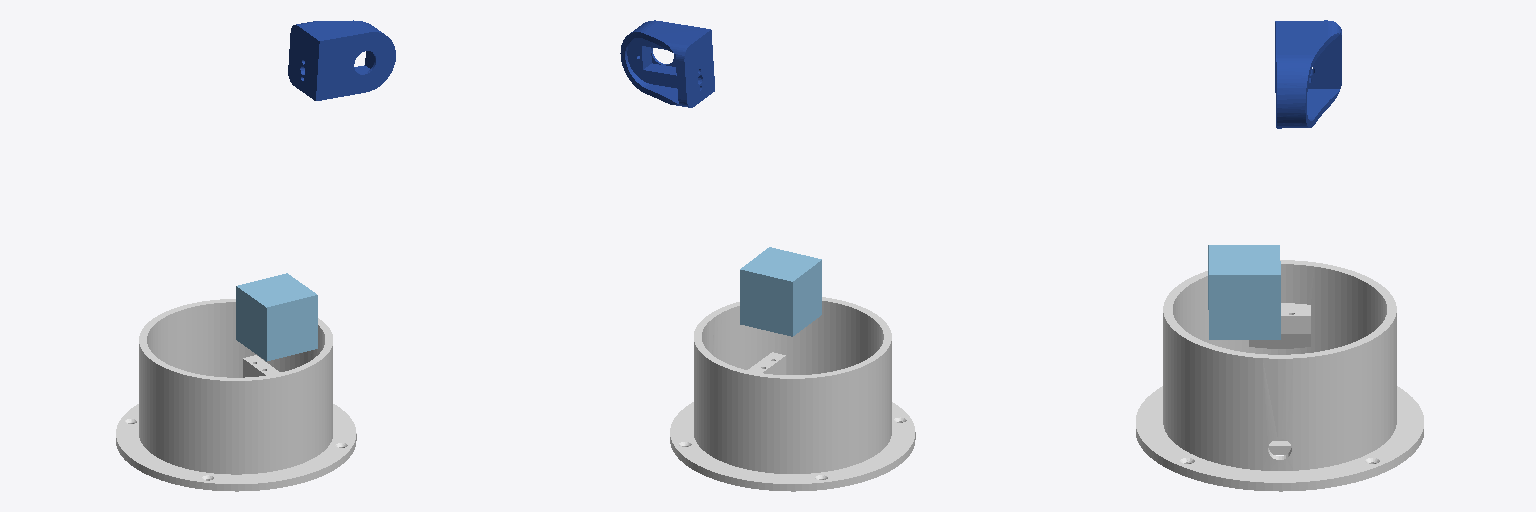
URDF robot description (onshape):
<robot name="onshape">
    <link name="dummy" />
    <link name="arm3">
        <visual>
            <origin xyz="0.069286642488982447263 -0.0016263012162936727779 0.19372352846538856697" rpy="-1.5707963267951670083 -1.501990478773649107 0.012551015856821223782" />
            <geometry>
                <mesh filename="package://tangs5dof/urdf/arm3.stl" />
            </geometry>
            <material name="arm3_material">
                <color rgba="0.2313725490196078538 0.38039215686274507888 0.7058823529411765163 1.0" />
            </material>
        </visual>
        <collision>
            <origin xyz="0.069286642488982447263 -0.0016263012162936727779 0.19372352846538856697" rpy="-1.5707963267951670083 -1.501990478773649107 0.012551015856821223782" />
            <geometry>
                <mesh filename="package://tangs5dof/urdf/arm3.stl" />
            </geometry>
        </collision>
        <inertial>
            <origin xyz="0.064019560538559075469 0.0070448898543647026083 0.19412482000266378934" rpy="0 0 0" />
            <mass value="0.020616204027974354557" />
            <inertia ixx="3.2534563525259959388e-06" ixy="6.7772788611822073483e-07" ixz="1.2559791444413544244e-07" iyy="6.2859334715843072602e-06" iyz="-5.3051665623261195765e-08" izz="4.8731196883597368349e-06" />
        </inertial>
    </link>
    <joint name="dummy_joint" type="fixed">
        <parent link="dummy" />
        <child link="arm3" />
    </joint>
    <link name="arm2">
        <visual>
            <origin xyz="0.0053075885986863802213 0.013514474980678490082 -0.057500001043081290508" rpy="1.570796326794896558 -0 -6.5027475249219949285e-20" />
            <geometry>
                <mesh filename="package://tangs5dof/urdf/arm2.stl" />
            </geometry>
            <material name="arm2_material">
                <color rgba="0.61568627450980395466 0.81176470588235294379 0.92941176470588238168 1.0" />
            </material>
        </visual>
        <collision>
            <origin xyz="0.0053075885986863802213 0.013514474980678490082 -0.057500001043081290508" rpy="1.570796326794896558 -0 -6.5027475249219949285e-20" />
            <geometry>
                <mesh filename="package://tangs5dof/urdf/arm2.stl" />
            </geometry>
        </collision>
        <inertial>
            <origin xyz="0.0053354610046044024727 0.00011343810143671882729 -0.050485733577047837983" rpy="0 0 0" />
            <mass value="0.052819407015602941324" />
            <inertia ixx="5.7316835569171644879e-05" ixy="6.1035161362994997912e-10" ixz="-7.3935105052967991413e-08" iyy="6.1042835938249356289e-05" iyz="2.896290949500153478e-07" izz="9.7447534283257454779e-06" />
        </inertial>
    </link>
    <link name="arm1">
        <visual>
            <origin xyz="0.057663569884095100537 0.00060194423267771746122 0" rpy="3.387476716188103273e-19 4.8023066144558868637e-19 -1.570796326794896558" />
            <geometry>
                <mesh filename="package://tangs5dof/urdf/arm1.stl" />
            </geometry>
            <material name="arm1_material">
                <color rgba="0.76862745098039220171 0.88627450980392152857 0.95294117647058818044 1.0" />
            </material>
        </visual>
        <collision>
            <origin xyz="0.057663569884095100537 0.00060194423267771746122 0" rpy="3.387476716188103273e-19 4.8023066144558868637e-19 -1.570796326794896558" />
            <geometry>
                <mesh filename="package://tangs5dof/urdf/arm1.stl" />
            </geometry>
        </collision>
        <inertial>
            <origin xyz="0.059200778442978697902 -1.2406768289514542031e-05 0.0077948564897016908368" rpy="0 0 0" />
            <mass value="0.079963772883510669809" />
            <inertia ixx="1.1383675248669571873e-05" ixy="1.0270272944396628538e-09" ixz="2.9902863431550200458e-07" iyy="0.00013379400877519765029" iyz="-2.6825379734458391936e-10" izz="0.00013980580671442963993" />
        </inertial>
    </link>
    <link name="part_1">
        <visual>
            <origin xyz="-0.013965289960663616886 -0.040301559464014063972 0.0040000001899898052216" rpy="-1.570796326794896558 -1.570796326794896558 0" />
            <geometry>
                <mesh filename="package://tangs5dof/urdf/part_1.stl" />
            </geometry>
            <material name="part_1_material">
                <color rgba="0.61568627450980395466 0.81176470588235294379 0.92941176470588238168 1.0" />
            </material>
        </visual>
        <collision>
            <origin xyz="-0.013965289960663616886 -0.040301559464014063972 0.0040000001899898052216" rpy="-1.570796326794896558 -1.570796326794896558 0" />
            <geometry>
                <mesh filename="package://tangs5dof/urdf/part_1.stl" />
            </geometry>
        </collision>
        <inertial>
            <origin xyz="-0.012609627711571943717 -0.023018102601310333477 -0.0024368925816384253216" rpy="0 0 0" />
            <mass value="0.085013969989408674777" />
            <inertia ixx="5.6210967383201727811e-05" ixy="-7.7893279410219734484e-06" ixz="7.9880225262161873533e-07" iyy="6.8281916421221113987e-05" iyz="6.467979915412664117e-06" izz="7.2590632130354267623e-05" />
        </inertial>
    </link>
    <link name="base">
        <visual>
            <origin xyz="0 0 -0.056000001728534698486" rpy="0 -0 0" />
            <geometry>
                <mesh filename="package://tangs5dof/urdf/base.stl" />
            </geometry>
            <material name="base_material">
                <color rgba="0.91764705882352937127 0.91764705882352937127 0.91764705882352937127 1.0" />
            </material>
        </visual>
        <collision>
            <origin xyz="0 0 -0.056000001728534698486" rpy="0 -0 0" />
            <geometry>
                <mesh filename="package://tangs5dof/urdf/base.stl" />
            </geometry>
        </collision>
        <inertial>
            <origin xyz="0.00011682982551327141777 -1.3255133999595796758e-05 -0.033698641155267772263" rpy="0 0 0" />
            <mass value="0.12002083594684367918" />
            <inertia ixx="0.00015985952079173267114" ixy="-1.4995133842184851428e-09" ixz="4.8835847869682253653e-06" iyy="0.00017194770426647181297" iyz="7.4030030502572907204e-10" izz="0.00025973363809823083121" />
        </inertial>
    </link>
    <joint name="shoulder" type="revolute">
        <origin xyz="-0.013965289960663616886 -0.040301559464014063972 0.0040000001899898052216" rpy="-1.570796326794896558 -0.012551015857183739355 -4.1254338333079384561e-23" />
        <parent link="part_1" />
        <child link="base" />
        <axis xyz="0 0 1" />
        <limit effort="1" velocity="20" lower="-1.570796326794896558" upper="1.570796326794896558" />
        <joint_properties friction="0.0" />
    </joint>
    <joint name="elbow" type="revolute">
        <origin xyz="0.11998739918318486464 -2.123187930913594812e-06 -3.4694469519536141888e-18" rpy="-3.3269375668139454439e-15 2.1475876632594051176e-15 1.0742051321332899416" />
        <parent link="arm1" />
        <child link="part_1" />
        <axis xyz="0 0 1" />
        <limit effort="1" velocity="20" lower="0" upper="3.141592653589793116" />
        <joint_properties friction="0.0" />
    </joint>
    <joint name="waist" type="revolute">
        <origin xyz="0.0053082245392913340876 0.0075144749285244241688 -0.089748321005440917508" rpy="1.570796326794896558 -0.56539704268284429745 3.1415926535897891192" />
        <parent link="arm2" />
        <child link="arm1" />
        <axis xyz="0 0 1" />
        <limit effort="1" velocity="20" lower="0" upper="4.712388980384689674" />
        <joint_properties friction="0.0" />
    </joint>
    <joint name="end_effector" type="revolute">
        <origin xyz="0.045824285302664989616 0.01209055363782678659 0.19033089908423339587" rpy="-3.141592653589793116 -1.5019904787736619856 0.012551015857082400279" />
        <parent link="arm3" />
        <child link="arm2" />
        <axis xyz="0 0 1" />
        <limit effort="1" velocity="20" lower="-1.570796326794896558" upper="1.570796326794896558" />
        <joint_properties friction="0.0" />
    </joint>
    <transmission name="trans_shoulder">
        <type>transmission_interface/SimpleTransmission</type>
        <joint name="shoulder">
            <hardwareInterface>hardware_interface/EffortJointInterface</hardwareInterface>
        </joint>
        <actuator name="shoulder_motor">
            <hardwareInterface>hardware_interface/EffortJointInterface</hardwareInterface>
            <mechanicalReduction>1</mechanicalReduction>
        </actuator>
    </transmission>
    <transmission name="trans_elbow">
        <type>transmission_interface/SimpleTransmission</type>
        <joint name="elbow">
            <hardwareInterface>hardware_interface/EffortJointInterface</hardwareInterface>
        </joint>
        <actuator name="elbow_motor">
            <hardwareInterface>hardware_interface/EffortJointInterface</hardwareInterface>
            <mechanicalReduction>1</mechanicalReduction>
        </actuator>
    </transmission>
    <transmission name="trans_waist">
        <type>transmission_interface/SimpleTransmission</type>
        <joint name="waist">
            <hardwareInterface>hardware_interface/EffortJointInterface</hardwareInterface>
        </joint>
        <actuator name="waist_motor">
            <hardwareInterface>hardware_interface/EffortJointInterface</hardwareInterface>
            <mechanicalReduction>1</mechanicalReduction>
        </actuator>
    </transmission>
    <transmission name="trans_end_effector">
        <type>transmission_interface/SimpleTransmission</type>
        <joint name="end_effector">
            <hardwareInterface>hardware_interface/EffortJointInterface</hardwareInterface>
        </joint>
        <actuator name="end_effector_motor">
            <hardwareInterface>hardware_interface/EffortJointInterface</hardwareInterface>
            <mechanicalReduction>1</mechanicalReduction>
        </actuator>
    </transmission>
    <gazebo>
        <plugin name="gazebo_ros_control">
            <robotNamespace>/</robotNamespace>
        </plugin>
    </gazebo>
</robot>

--- Render facts (derived) ---
3 views of the same robot in one strip: view 1: azimuth 30°, elevation 25°; view 2: azimuth 150°, elevation 25°; view 3: azimuth 270°, elevation 25° (orthographic).
Robot: onshape — 6 links, 5 joints (4 revolute, 1 fixed); root link dummy; default pose: every joint at zero.
Visible links, largest first — view 1: base, arm3, part_1; view 2: base, arm3, part_1; view 3: base, part_1, arm3.
Link boxes in pixels (x1,y1,x2,y2): base: (116, 299, 356, 491); arm3: (288, 20, 395, 100); part_1: (236, 273, 317, 361); base: (670, 297, 915, 491); arm3: (620, 20, 714, 107); part_1: (740, 247, 821, 336); base: (1136, 260, 1423, 491); part_1: (1208, 245, 1280, 339); arm3: (1275, 20, 1341, 128).
Size in the robot's own frame: 0.1529 by 0.1212 by 0.2118 metres.
3 mesh visuals loaded from 5 distinct referenced files (3 binary STL); not drawn: 2 (reference not matched to a file when rendering).